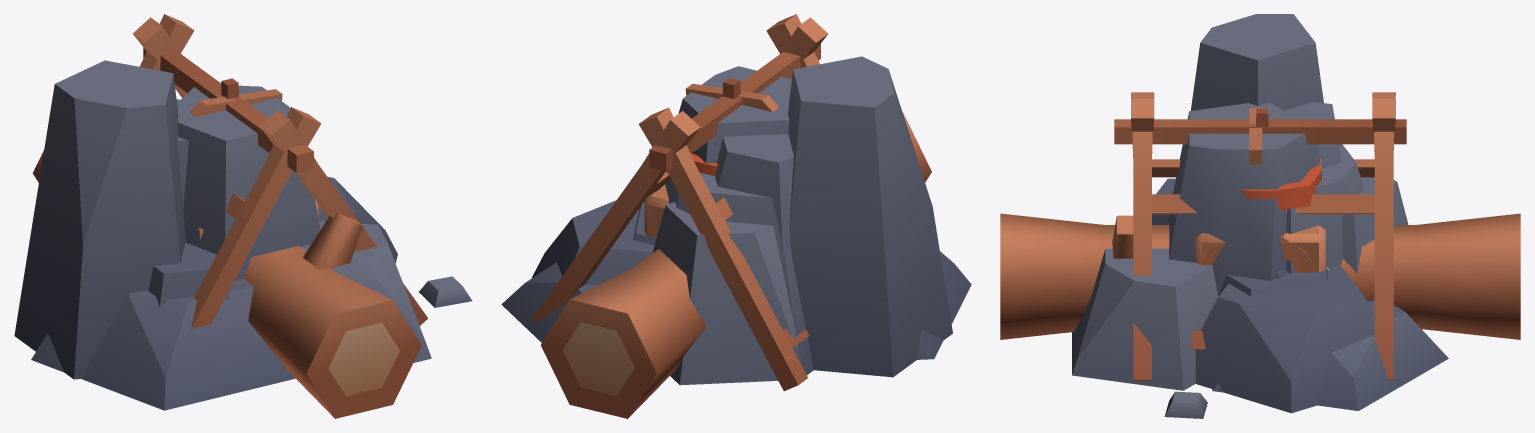
The model's file is props.glb.
The picture shows the model from 3 angles, left to right: view 1: azimuth 30°, elevation 25°; view 2: azimuth 150°, elevation 25°; view 3: azimuth 270°, elevation 25°; orthographic projection. The views are drawn at different scales.
Visible parts, largest first — view 1: rock-c, rock-b, tree-log, tent, signpost, rock-a; view 2: rock-c, rock-b, tent, tree-log, rock-a, signpost, box; view 3: rock-b, rock-c, tree-log, tent, rock-a, box, barrel, chest, signpost.
Part boxes in pixels (x1,y1,x2,y2): rock-c: [14, 60, 397, 379]; rock-b: [31, 85, 472, 410]; tree-log: [32, 150, 421, 418]; tent: [132, 14, 427, 328]; signpost: [189, 78, 282, 117]; rock-a: [176, 99, 326, 221]; rock-c: [532, 56, 952, 377]; rock-b: [501, 66, 971, 385]; tent: [531, 14, 828, 391]; tree-log: [541, 112, 931, 418]; rock-a: [633, 134, 793, 257]; signpost: [685, 78, 779, 112]; box: [644, 185, 668, 237]; rock-b: [1072, 102, 1448, 418]; rock-c: [1152, 14, 1375, 413]; tree-log: [1000, 213, 1520, 339]; tent: [1114, 92, 1406, 381]; rock-a: [1218, 102, 1340, 296]; box: [1195, 225, 1325, 272]; barrel: [1240, 158, 1321, 214]; chest: [1201, 236, 1328, 272]; signpost: [1249, 108, 1268, 164].
Bounding box in the file's own units: 0.8346 × 0.51 × 1.
